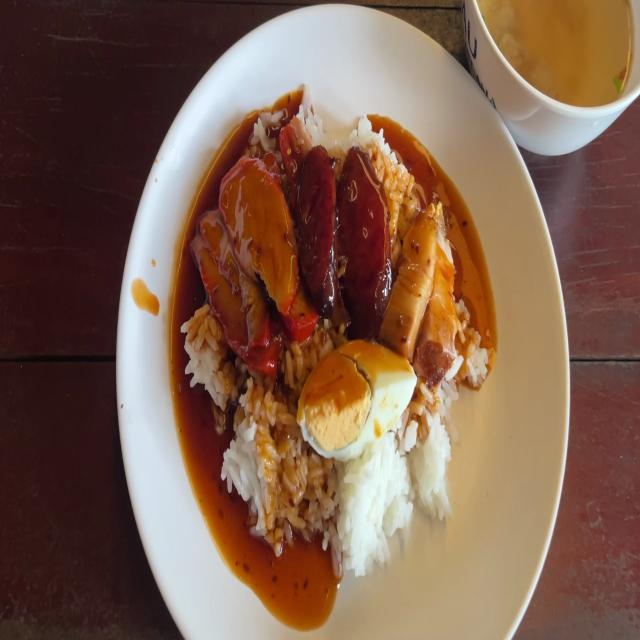01boiled_egg: (310, 340, 410, 451)
01chainese_sausage: (290, 148, 397, 331), (338, 152, 393, 318), (290, 150, 336, 311)
01crispy_pork: (384, 188, 464, 368), (398, 211, 425, 348)
01red_pork: (189, 152, 305, 372), (223, 159, 304, 312), (197, 212, 272, 364)
01red_pork_and_crispy_pork: (182, 100, 487, 576)
01rice: (310, 450, 422, 577), (217, 382, 302, 544), (415, 390, 456, 510), (187, 312, 226, 418)
